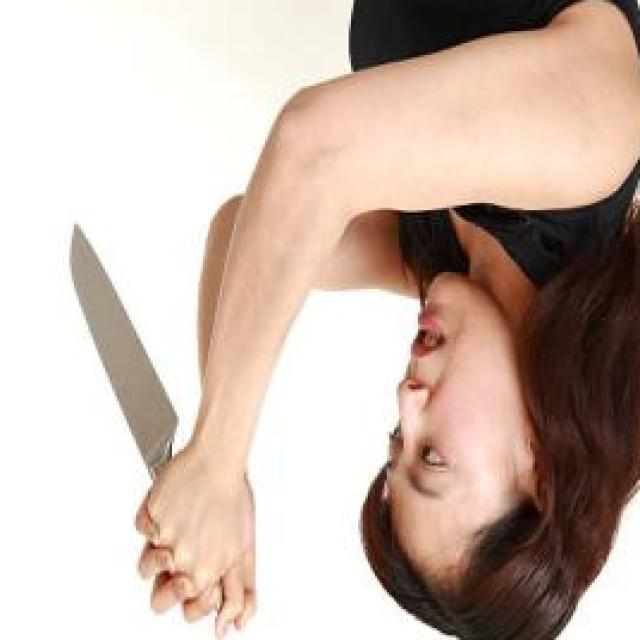knife: (69, 218, 246, 624)
